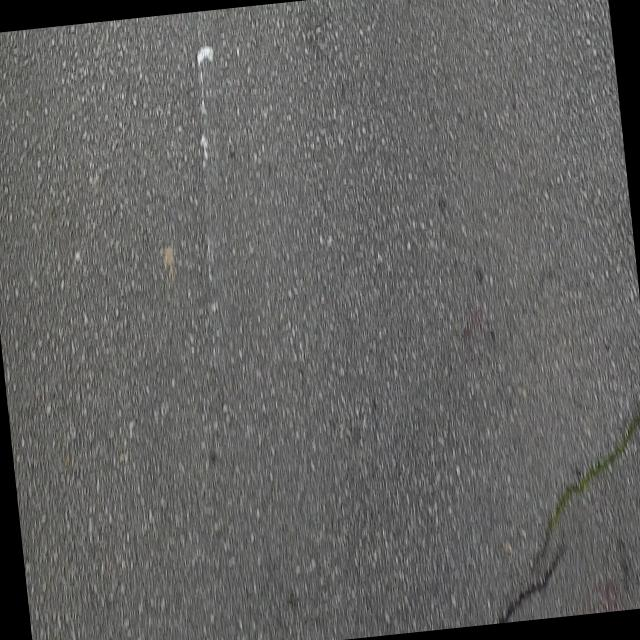Retak-Melintang: (528, 405, 640, 576), (499, 544, 570, 623)
